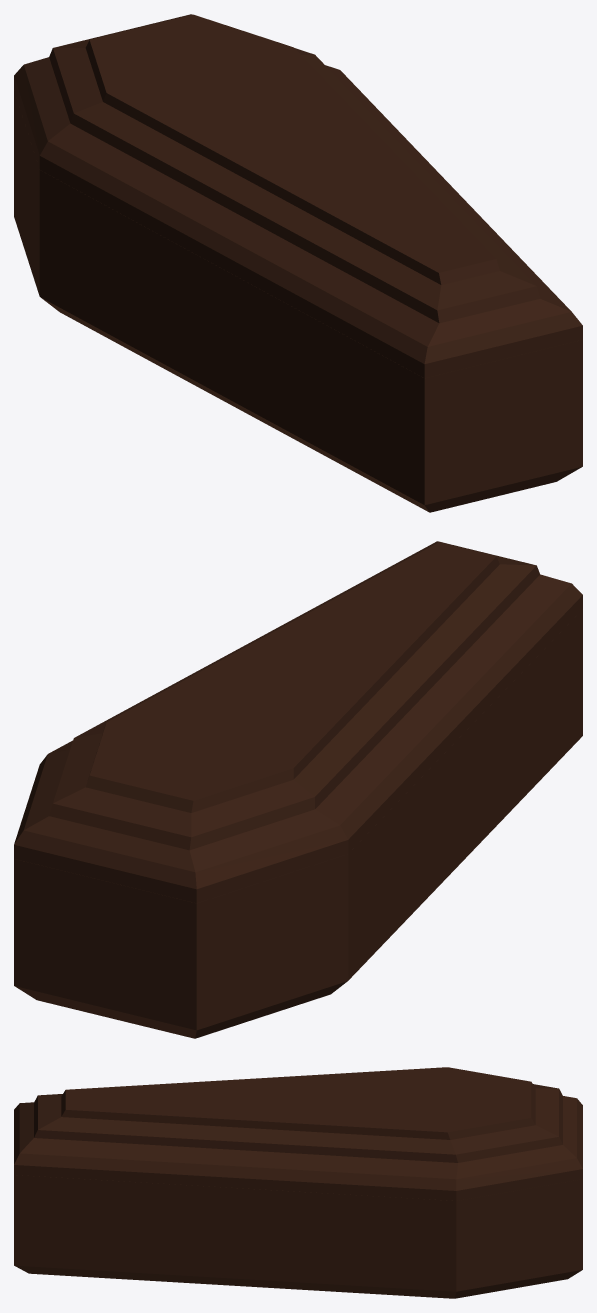
Rendered from Coffin_1.glb.
3 views of the same model, one above another, from view 1: azimuth 30°, elevation 25°; view 2: azimuth 150°, elevation 25°; view 3: azimuth 270°, elevation 25° (orthographic). The views are drawn at different scales.
Size of the model in its own units: 28.19 by 18.57 by 63.06.
1 material, 1 textured.
